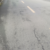others: (11, 1, 50, 16)
